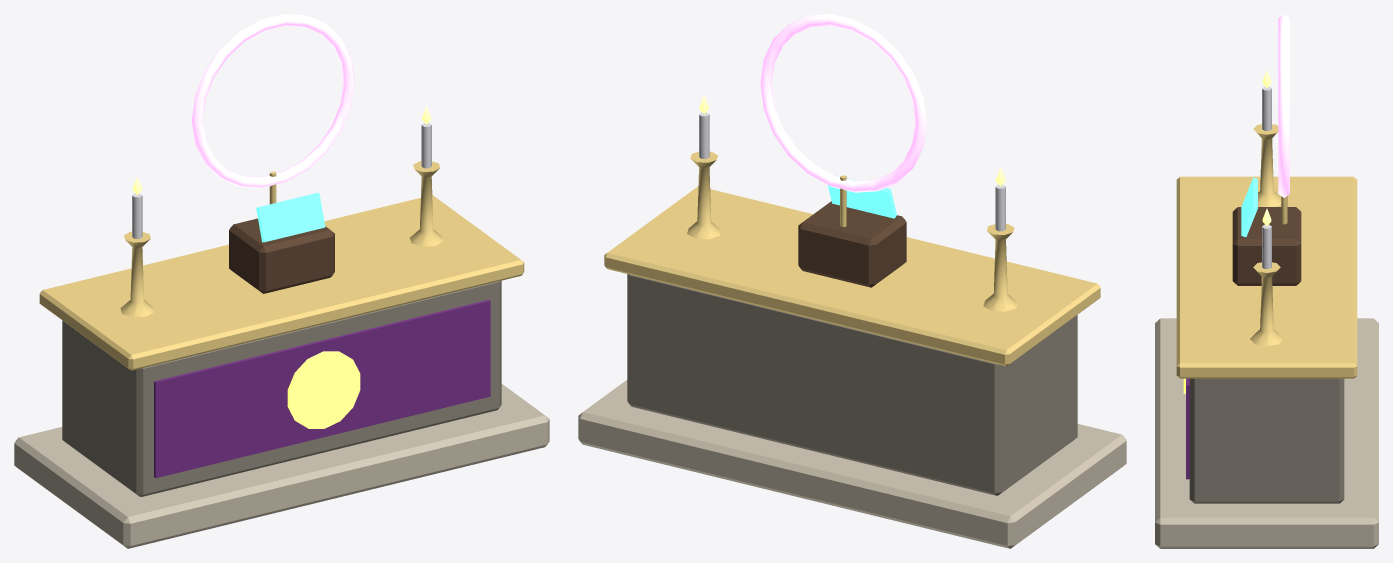
File: bb_altar.glb
3 views of the same model, side by side, from view 1: azimuth 30°, elevation 25°; view 2: azimuth 150°, elevation 25°; view 3: azimuth 270°, elevation 25° (orthographic). The views are drawn at different scales.
Visible parts, largest first — view 1: bb_altar; view 2: bb_altar; view 3: bb_altar.
Boxes of the visible parts, x1,y1,x2,y2 form: bb_altar: (14,14,549,548); bb_altar: (578,14,1126,548); bb_altar: (1155,14,1378,548).
Bounding box in the file's own units: 2.8 × 2.73 × 1.3.
